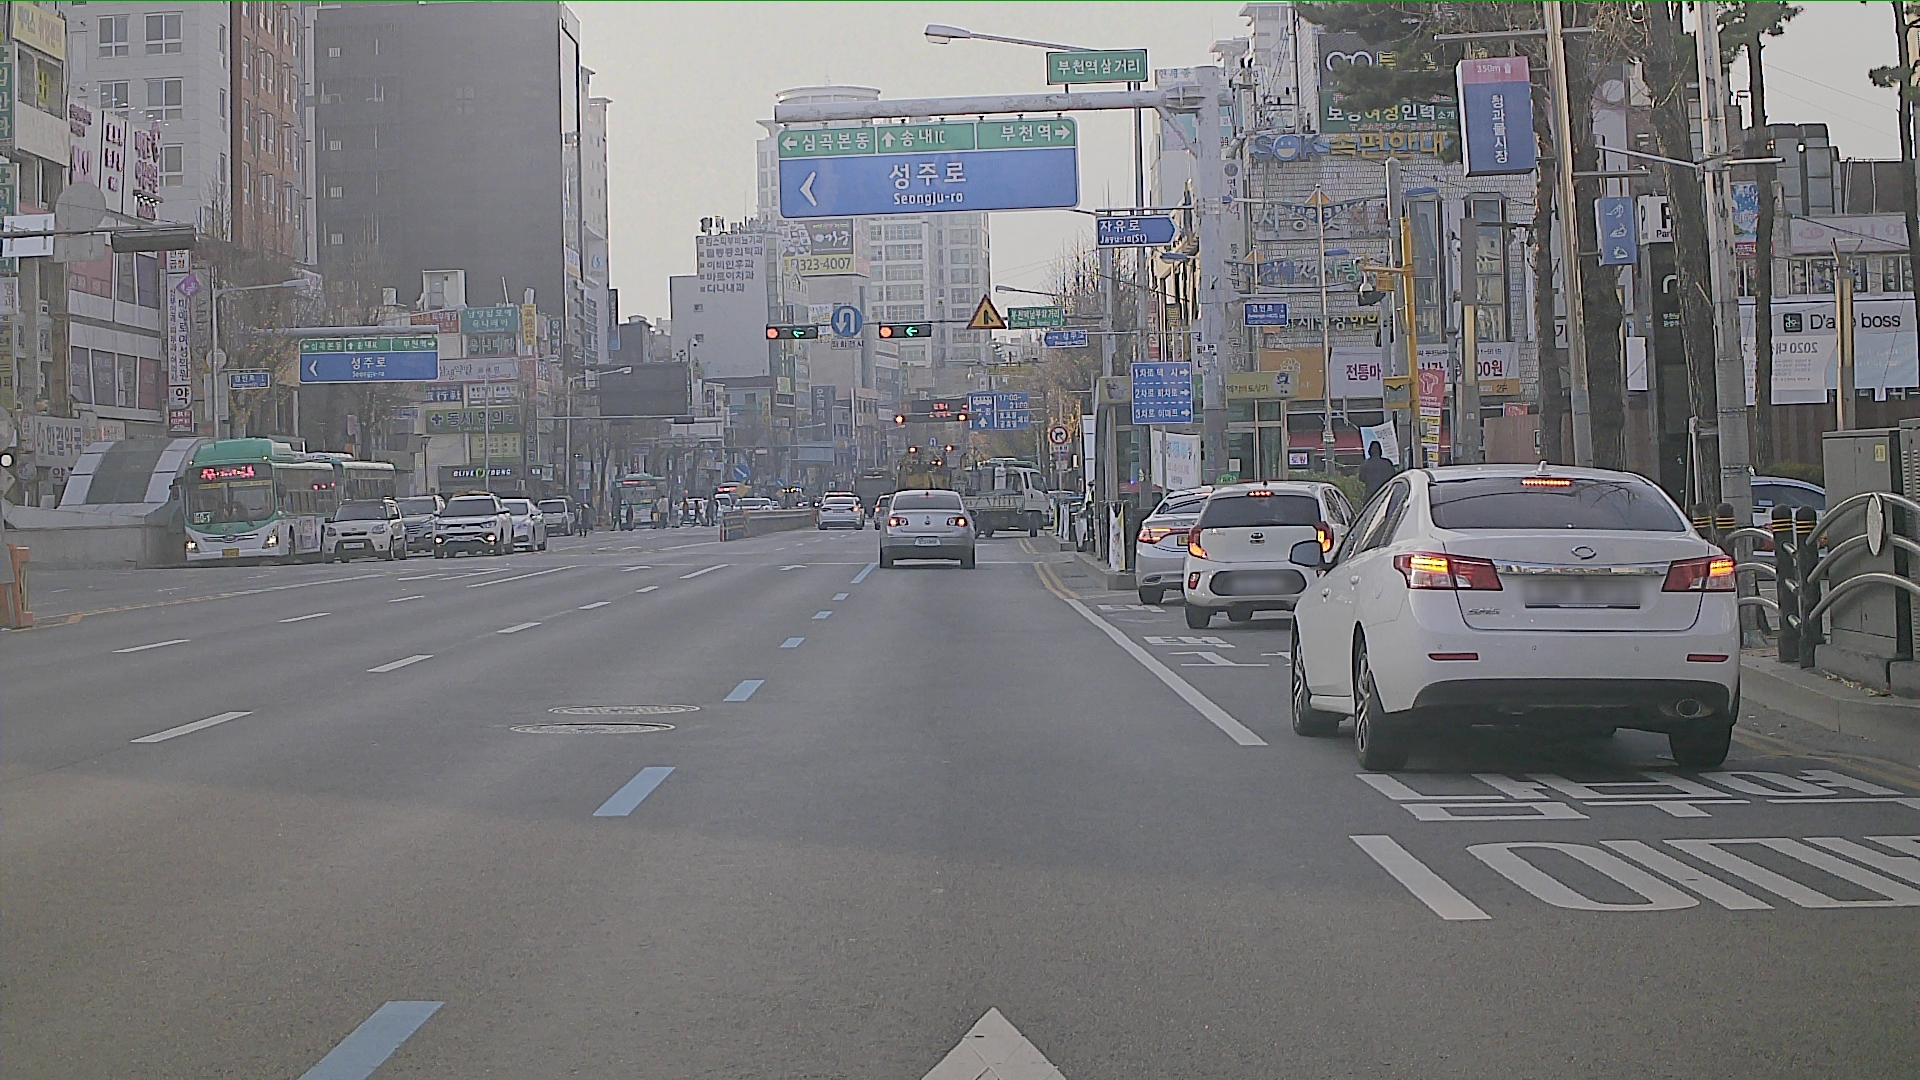trafficLight: (874, 322, 936, 342), (893, 414, 978, 425), (757, 324, 822, 338), (905, 444, 967, 455)
trafficSignCircle: (832, 305, 862, 338), (1048, 425, 1065, 444)
trafficSignTri: (965, 293, 1010, 332)
